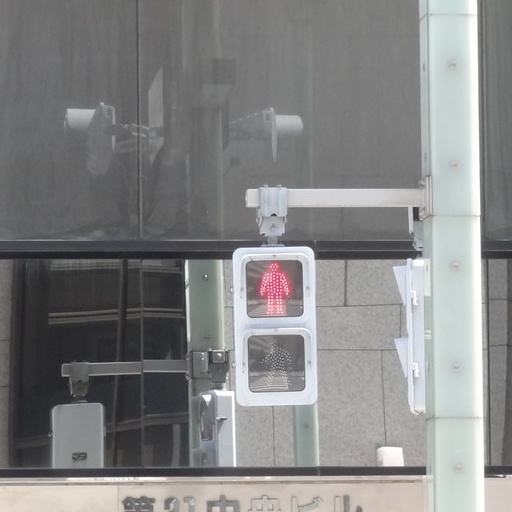Pedestrian_Signal_Red: (236, 239, 318, 402)
